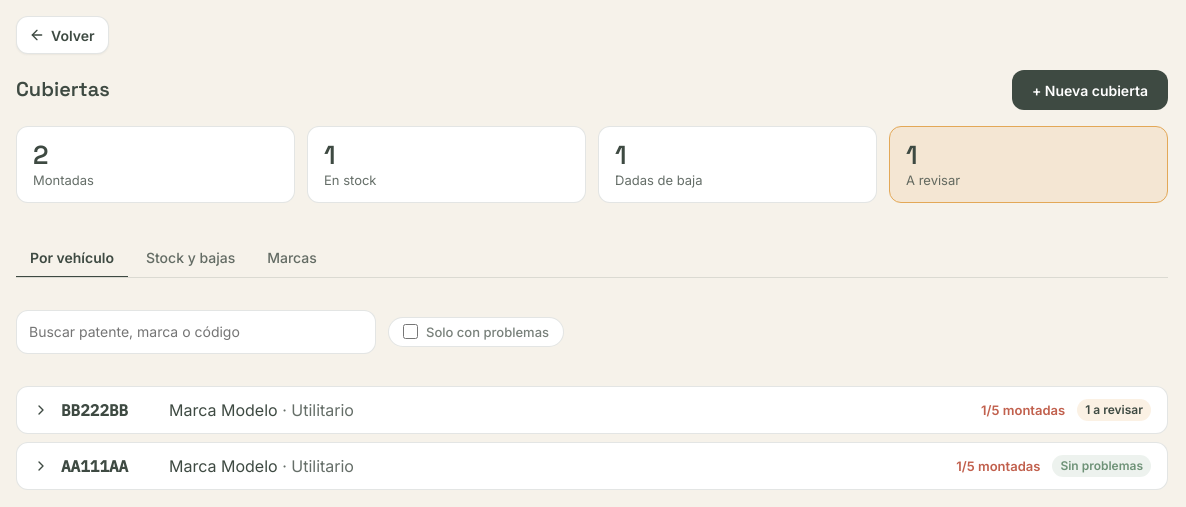
Test: inventario de cubiertas (CAM-157) › "A revisar" deja solo los vehículos con problemas
Click the button "1 A revisar": (933, 180) [889, 126, 1168, 203]
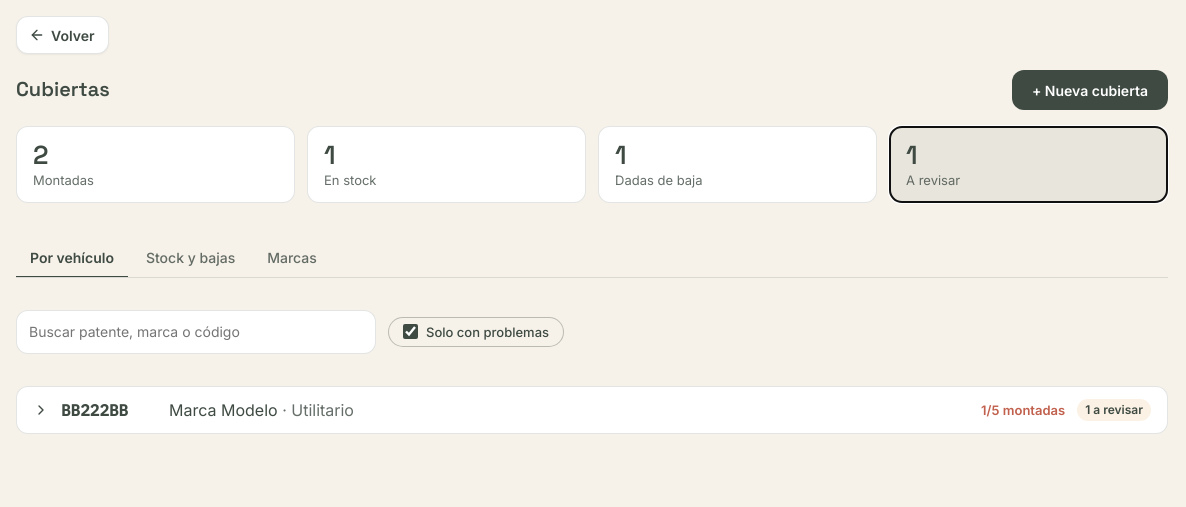
expect the button "BB222BB Marca Modelo · Utilitario 1/5 montadas 1 a revisar" is shown: met, box [17, 387, 1167, 433]
expect the button "AA111AA" is gone: met
